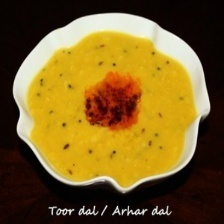dal: (23, 26, 201, 194)
